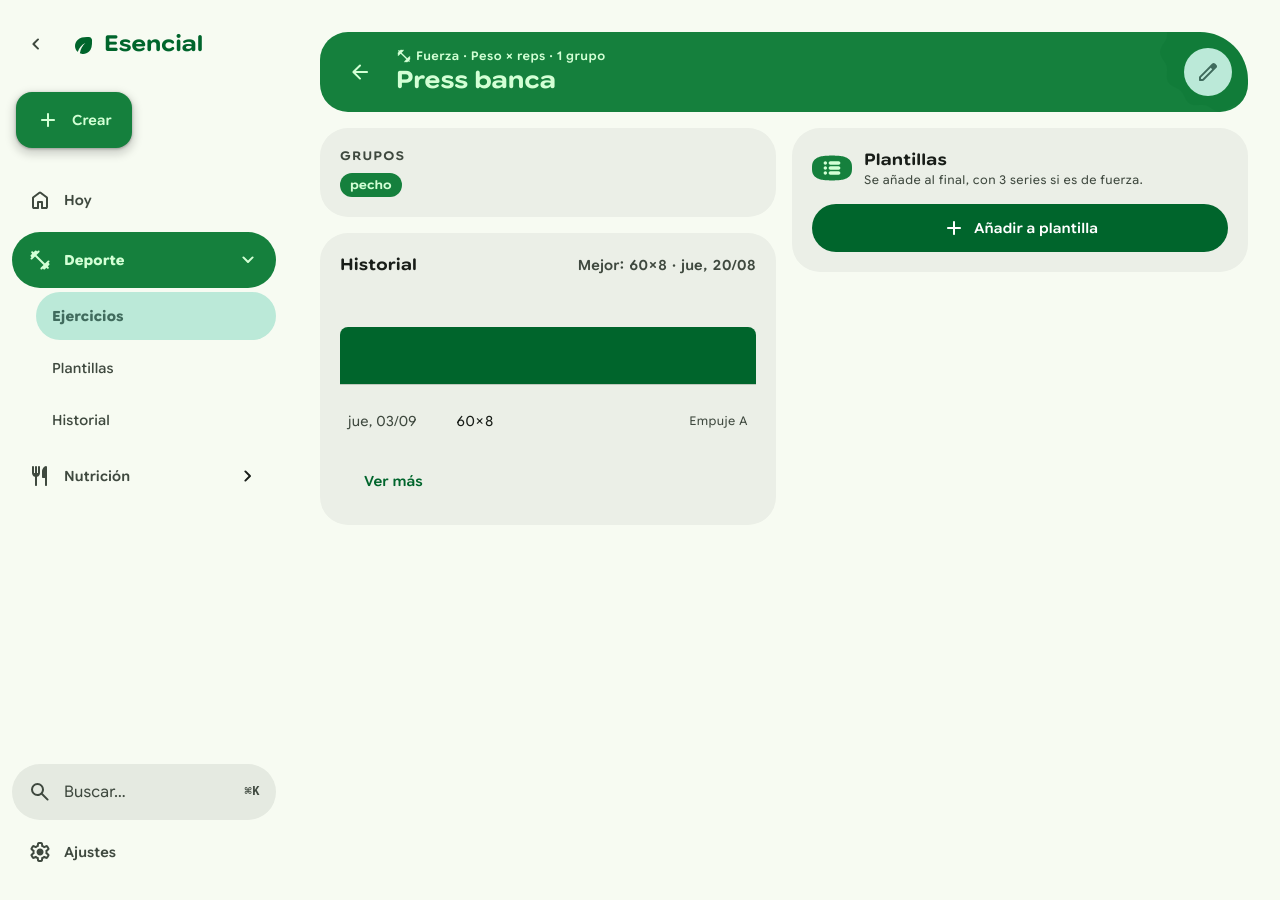
Test: historial del ejercicio › «Ver más» pide la página siguiente con before y acumula las sesiones
Click the button "Ver más": (393, 481) [340,457,447,505]
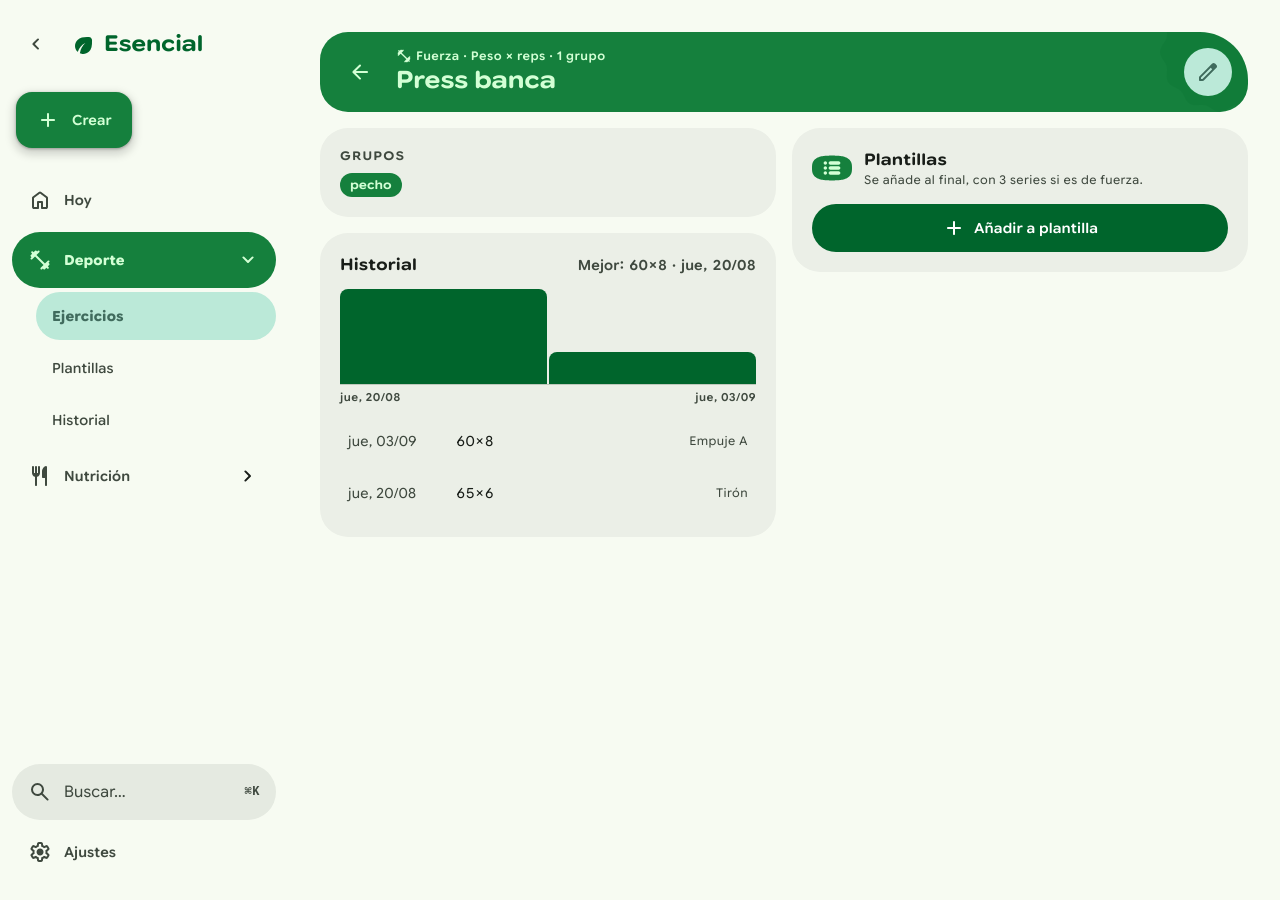
Expected: the picture named "Progresión de Press banca: de 65 a 60 kg en 2 sesiones" is shown, [340,289,756,385]
Expected: the button "Ver más" is gone
